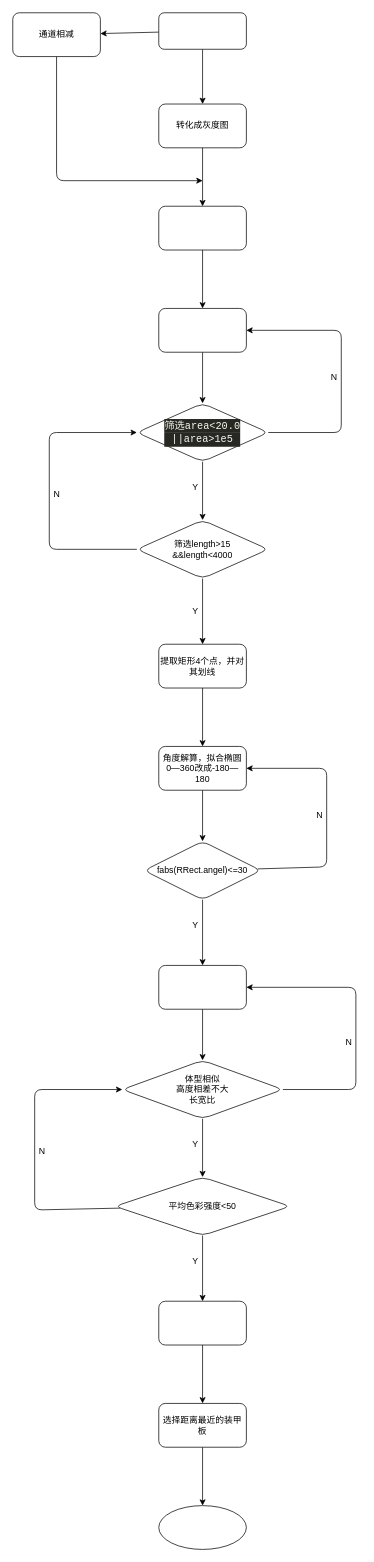
The diagram is 374 pixels wide and 1562 high, and some of its shapes have lost their labels. The shapes that lost their labels are listed below. From the top down, each one's centre as x and y in pixels, then its label:
At (202,30): "图像载入".
At (202,227): "二值化".
At (202,330): "寻找轮廓".
At (202,987): "遍历灯条".
At (202,1322): "两两拟合成装甲板".
